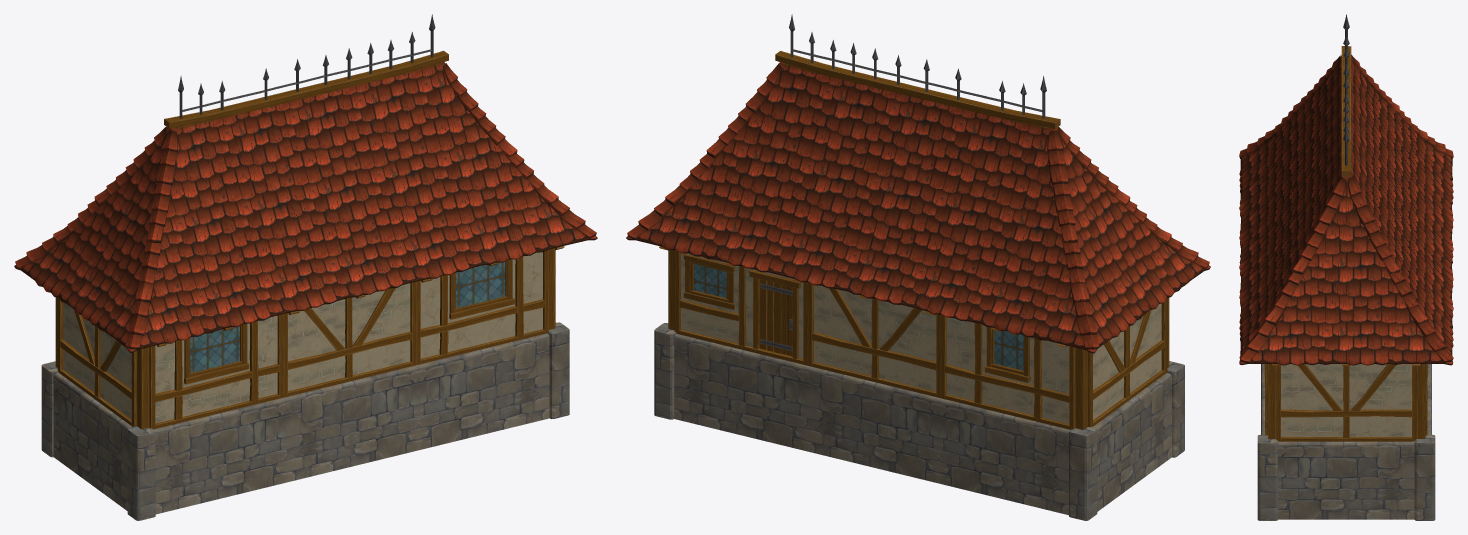
The model's file is house_3x1_02_merged_(1).gltf.
3 views of the same model, side by side, from view 1: azimuth 30°, elevation 25°; view 2: azimuth 150°, elevation 25°; view 3: azimuth 270°, elevation 25° (orthographic). The views are drawn at different scales.
Parts seen in each view (by area): view 1: House_3x1_02_Merged (1); view 2: House_3x1_02_Merged (1); view 3: House_3x1_02_Merged (1).
Part boxes in pixels (x1,y1,x2,y2): House_3x1_02_Merged (1): (14,14,597,520); House_3x1_02_Merged (1): (626,14,1210,520); House_3x1_02_Merged (1): (1239,14,1453,520).
Bounding box in the file's own units: 17.64 × 13.95 × 7.66.
10 materials, 10 textured.
